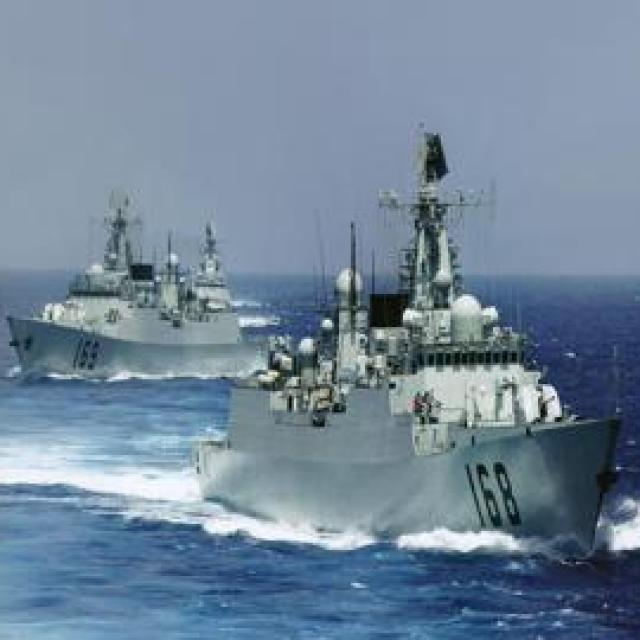navalvessels: (196, 144, 640, 542), (11, 202, 251, 370)
